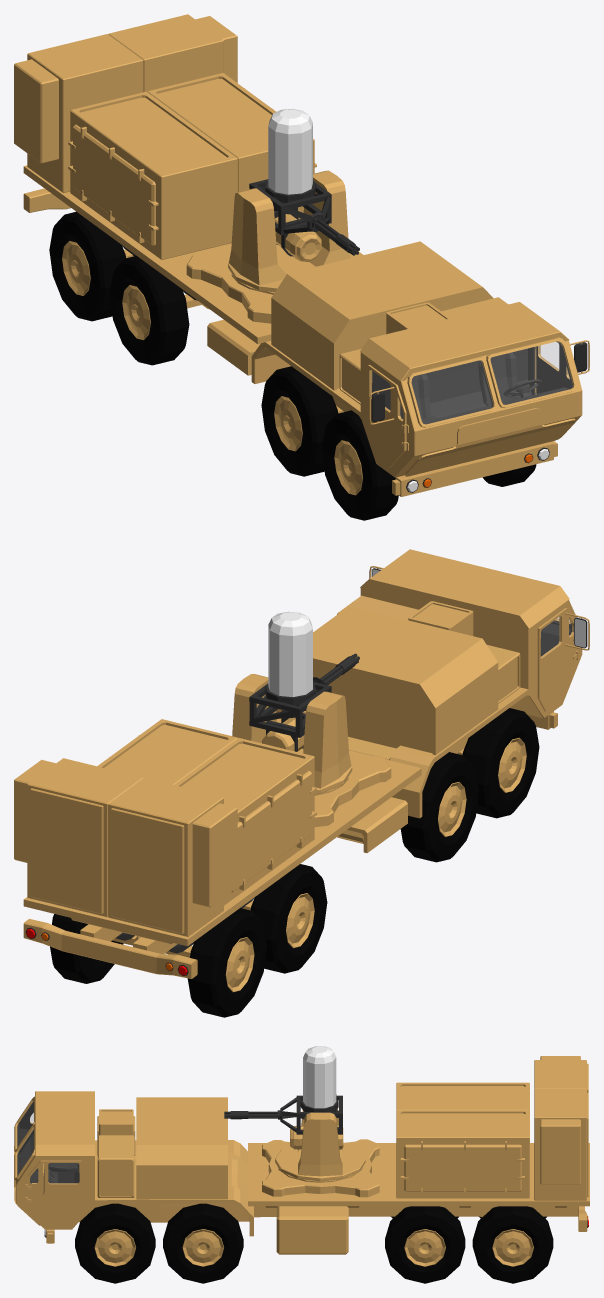
3 views of the same model, one above another, from view 1: azimuth 30°, elevation 25°; view 2: azimuth 150°, elevation 25°; view 3: azimuth 270°, elevation 25° (orthographic). The views are drawn at different scales.
Visible parts, largest first — view 1: Plane, Cube, Cube.001, Plane.002, Cylinder.008, Cylinder.002, Plane.004, Cylinder.001, Cylinder.003, Cylinder.004, Plane.001, Plane.003; view 2: Plane, Cube, Cube.001, Cylinder.003, Cylinder.004, Cylinder.002, Cylinder.001, Cylinder.008, Plane.001, Cylinder.007; view 3: Plane, Cube, Cylinder.005, Cylinder, Cylinder.007, Cylinder.006, Cylinder.008, Cube.001, Plane.003, Plane.004, Plane.002.
Boxes of the visible parts, x1=… form: Plane: x1=14, y1=14, x2=582, y2=496; Cube: x1=124, y1=241, x2=508, y2=413; Cube.001: x1=249, y1=108, x2=359, y2=261; Plane.002: x1=412, y1=342, x2=572, y2=423; Cylinder.008: x1=228, y1=170, x2=350, y2=292; Cylinder.002: x1=109, y1=256, x2=189, y2=365; Plane.004: x1=372, y1=341, x2=572, y2=424; Cylinder.001: x1=261, y1=366, x2=338, y2=476; Cylinder.003: x1=49, y1=211, x2=125, y2=321; Cylinder.004: x1=321, y1=410, x2=398, y2=520; Plane.001: x1=368, y1=364, x2=406, y2=467; Plane.003: x1=536, y1=340, x2=589, y2=393; Plane: x1=14, y1=549, x2=582, y2=978; Cube: x1=112, y1=595, x2=520, y2=957; Cube.001: x1=249, y1=611, x2=359, y2=751; Cylinder.003: x1=187, y1=908, x2=266, y2=1017; Cylinder.004: x1=462, y1=708, x2=539, y2=818; Cylinder.002: x1=250, y1=864, x2=327, y2=973; Cylinder.001: x1=400, y1=752, x2=479, y2=862; Cylinder.008: x1=232, y1=674, x2=352, y2=794; Plane.001: x1=537, y1=608, x2=589, y2=711; Cylinder.007: x1=50, y1=914, x2=123, y2=983; Plane: x1=14, y1=1056, x2=589, y2=1243; Cube: x1=97, y1=1097, x2=482, y2=1254; Cylinder.005: x1=163, y1=1203, x2=243, y2=1283; Cylinder: x1=75, y1=1203, x2=155, y2=1283; Cylinder.007: x1=472, y1=1206, x2=553, y2=1283; Cylinder.006: x1=385, y1=1206, x2=465, y2=1283; Cylinder.008: x1=275, y1=1094, x2=365, y2=1181; Cube.001: x1=224, y1=1046, x2=343, y2=1149; Plane.003: x1=27, y1=1160, x2=81, y2=1225; Plane.004: x1=17, y1=1101, x2=79, y2=1183; Plane.002: x1=17, y1=1100, x2=33, y2=1174.
Size of the model in its own units: 380 by 464 by 1179.
